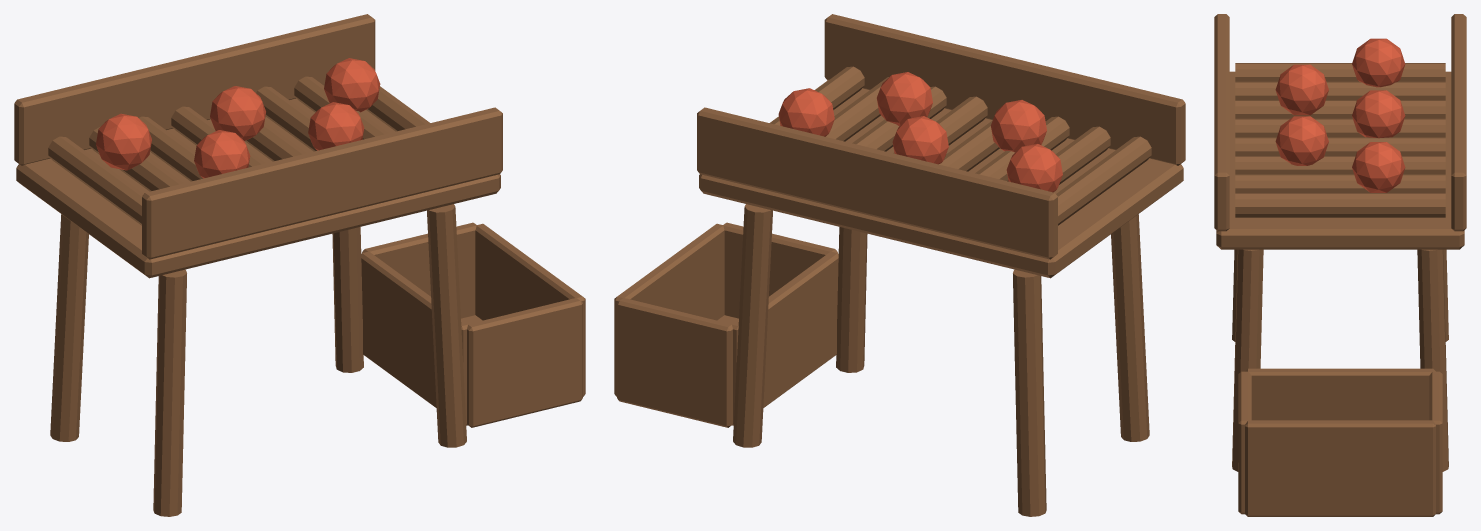
File: Apple_Sorter.glb
3 views of the same model, side by side, from view 1: azimuth 30°, elevation 25°; view 2: azimuth 150°, elevation 25°; view 3: azimuth 270°, elevation 25° (orthographic). The views are drawn at different scales.
Visible parts, largest first — view 1: Apple_Sorter; view 2: Apple_Sorter; view 3: Apple_Sorter.
Boxes of the visible parts, bbox=[...] form: Apple_Sorter: bbox=[14, 14, 585, 516]; Apple_Sorter: bbox=[614, 14, 1185, 516]; Apple_Sorter: bbox=[1214, 14, 1466, 516].
Size of the model in its own units: 1.28 by 0.9016 by 0.66.
